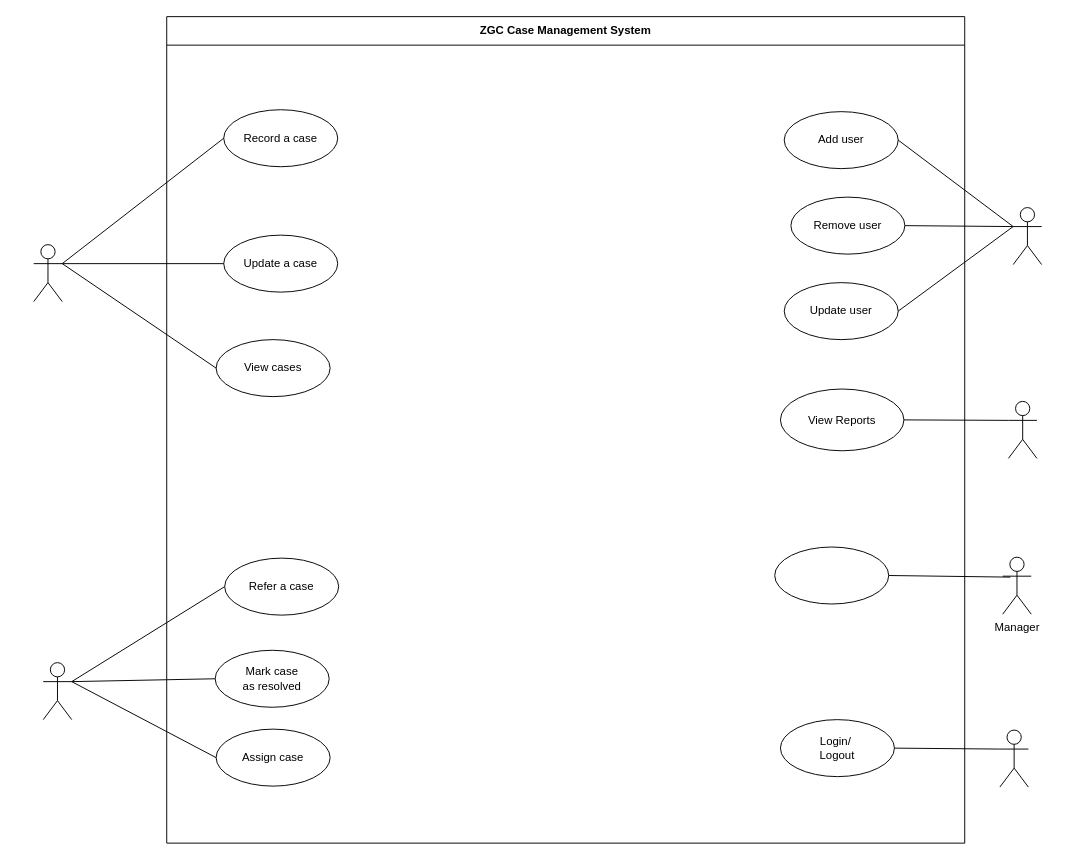
Image size: 1072x860. Some labels were removed from this diagram. Each missing label, with the centre of its shape:
"All users" goes at point (1013, 758).
"Assess a case" goes at point (831, 575).
"Director" goes at point (57, 691).
"Investigating Officer" goes at point (47, 273).
"Monitor" goes at point (1022, 429).
"Super user" goes at point (1027, 236).
